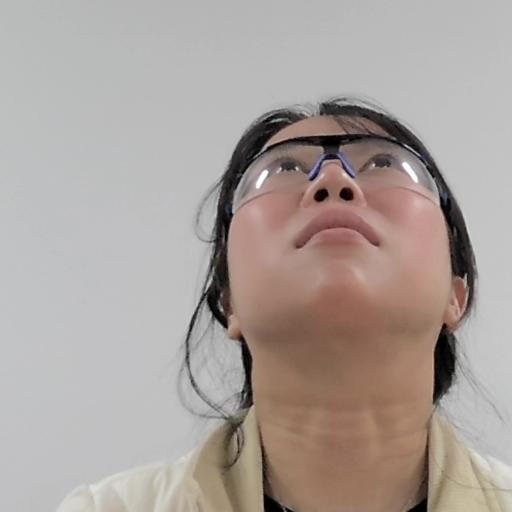glasses: (207, 93, 485, 394)
